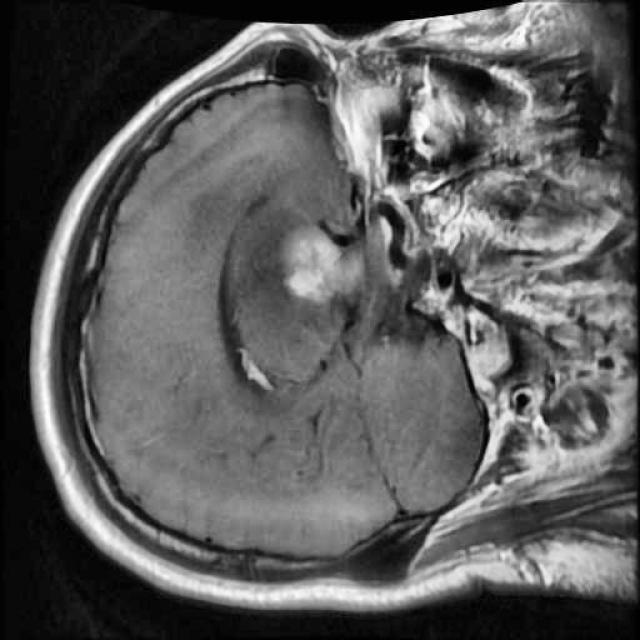Tumor: (270, 209, 370, 310)
